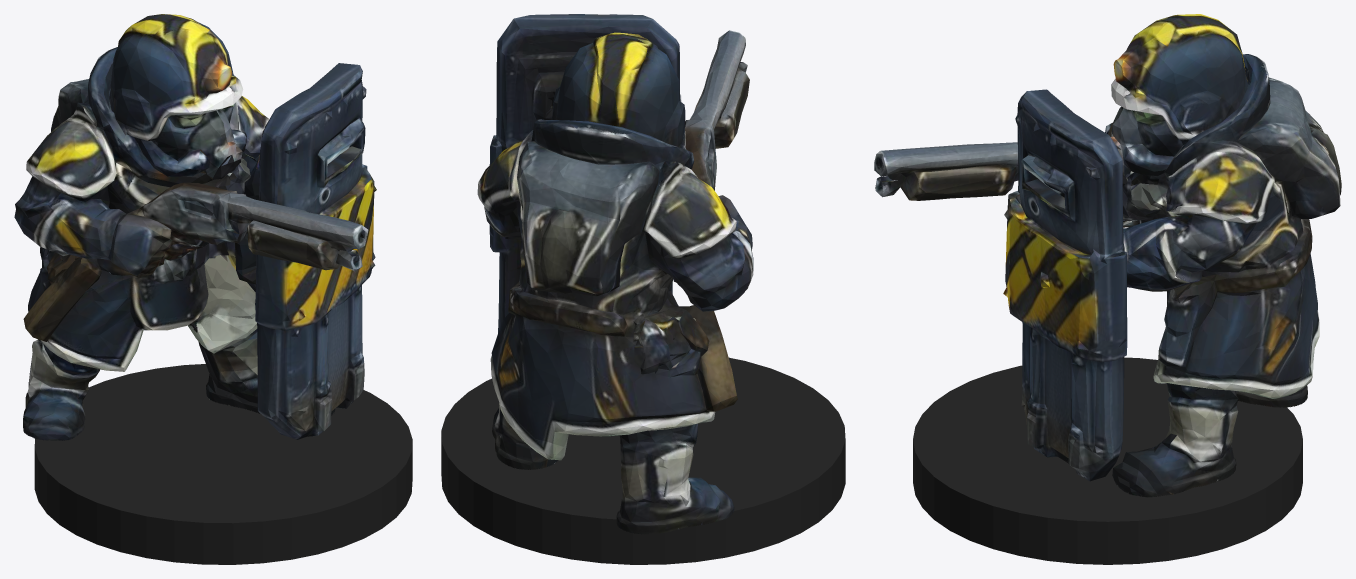
File: nb-endurant.glb
3 renders of one model, left to right at view 1: azimuth 30°, elevation 25°; view 2: azimuth 150°, elevation 25°; view 3: azimuth 270°, elevation 25°, orthographic. The views are drawn at different scales.
Parts seen in each view (by area): view 1: figure, base; view 2: figure, base; view 3: figure, base.
Part boxes in pixels (x1,y1,x2,y2): figure: (14, 14, 376, 440); base: (34, 364, 412, 564); figure: (477, 14, 753, 534); base: (441, 357, 845, 564); figure: (874, 14, 1341, 497); base: (913, 357, 1302, 564).
Size of the model in its own units: 0.9843 by 1.27 by 1.18.
Materials: 2 (1 with a texture image).
